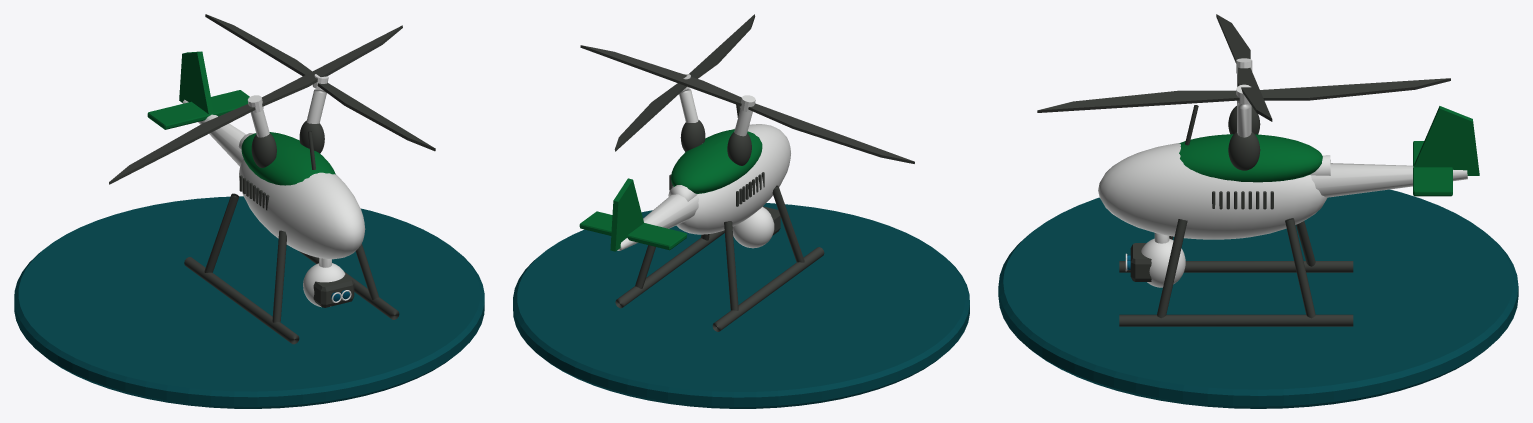
File: swissdrones-sdo-50-v3.glb
3 views of the same model, side by side, from view 1: azimuth 30°, elevation 25°; view 2: azimuth 150°, elevation 25°; view 3: azimuth 270°, elevation 25° (orthographic). The views are drawn at different scales.
Parts seen in each view (by area): view 1: pedestal, body; view 2: pedestal, body; view 3: pedestal, body.
Part boxes in pixels (left/top/right/bottom): pedestal: left=14, top=196, right=484, bottom=408; body: left=109, top=14, right=435, bottom=344; pedestal: left=513, top=203, right=969, bottom=408; body: left=579, top=14, right=914, bottom=331; pedestal: left=998, top=189, right=1518, bottom=408; body: left=1037, top=14, right=1479, bottom=326.
Bounding box in the file's own units: 4.4 × 2.5 × 4.4.
